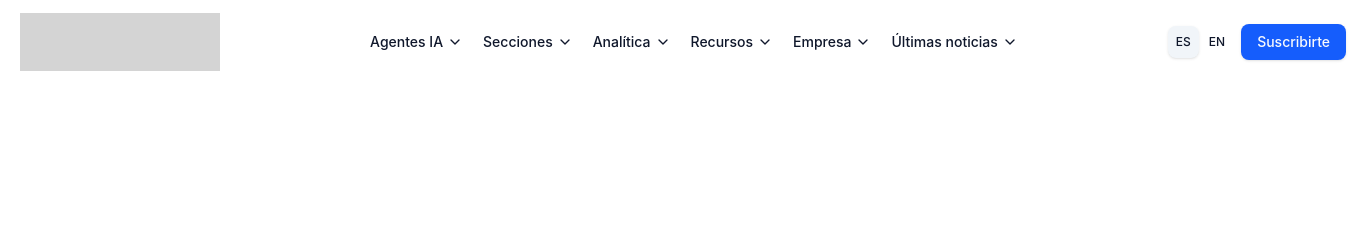
Header dropdowns › opens and closes Últimas noticias
This screenshot has width=1366, height=241.
Click the button "Últimas noticias" at {"x": 955, "y": 42}, box [884,24,1026,60]
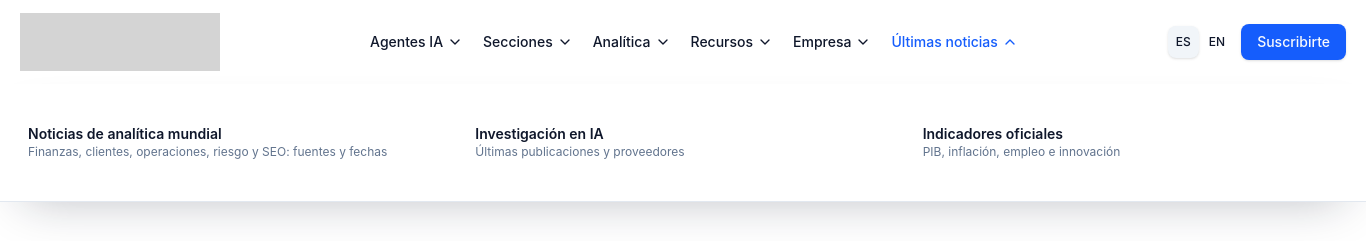
Now the button "Últimas noticias" is expanded, box [884,24,1026,60]
Now the link that starts with "Noticias de analítica mundial" is shown, box [28,125,387,159]
Press Escape
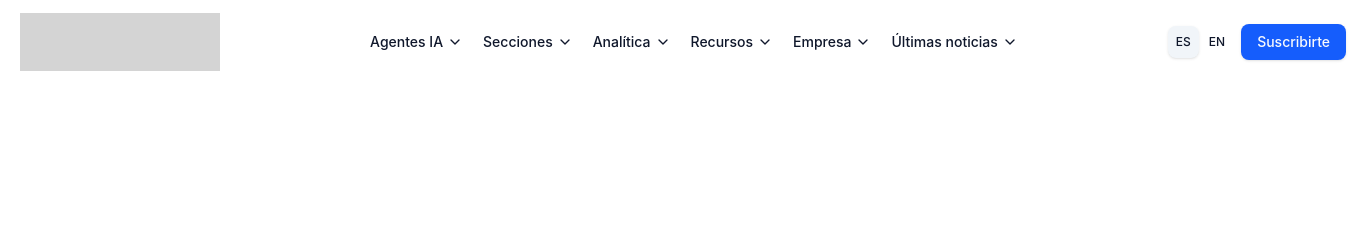
Now the button "Últimas noticias" is collapsed, box [884,24,1026,60]
